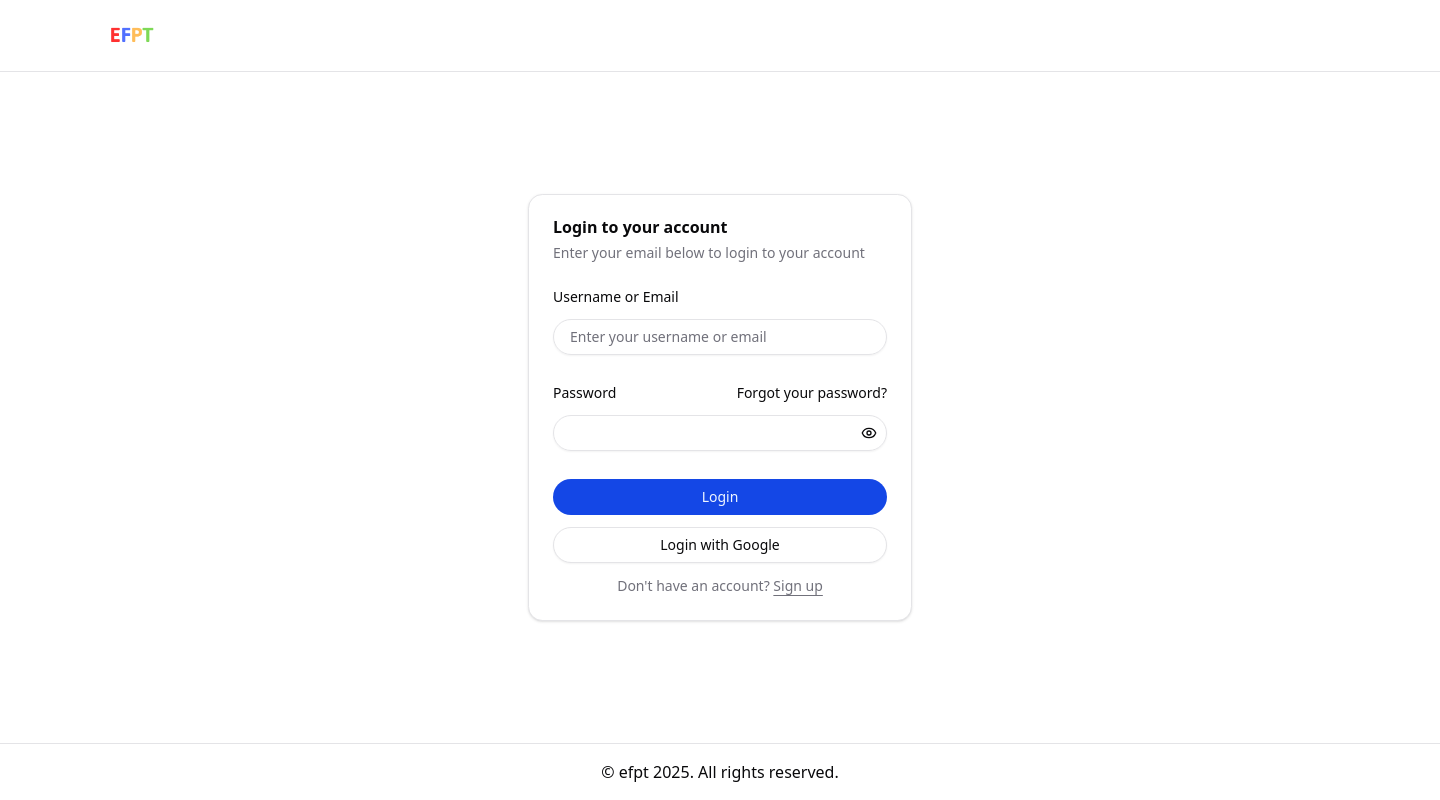
Test: Login failure flow › shows an error and does not store token when password is wrong
Step 1. Type "admin" into the field named "username" → (720, 337), box x1=553 y1=319 x2=887 y2=355
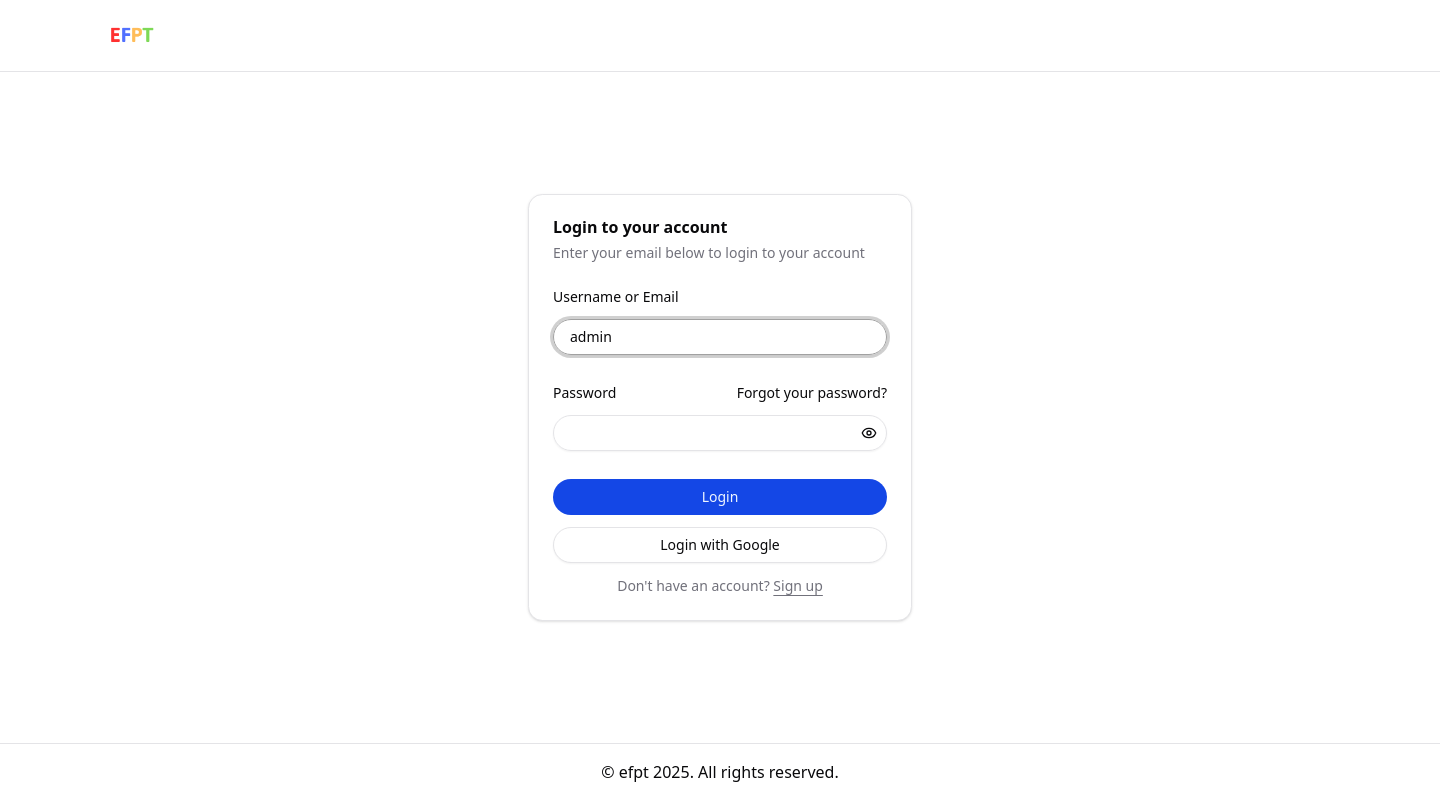
Step 2. Type "wrong-password" into the password field named "password" → (720, 433), box x1=553 y1=415 x2=887 y2=451
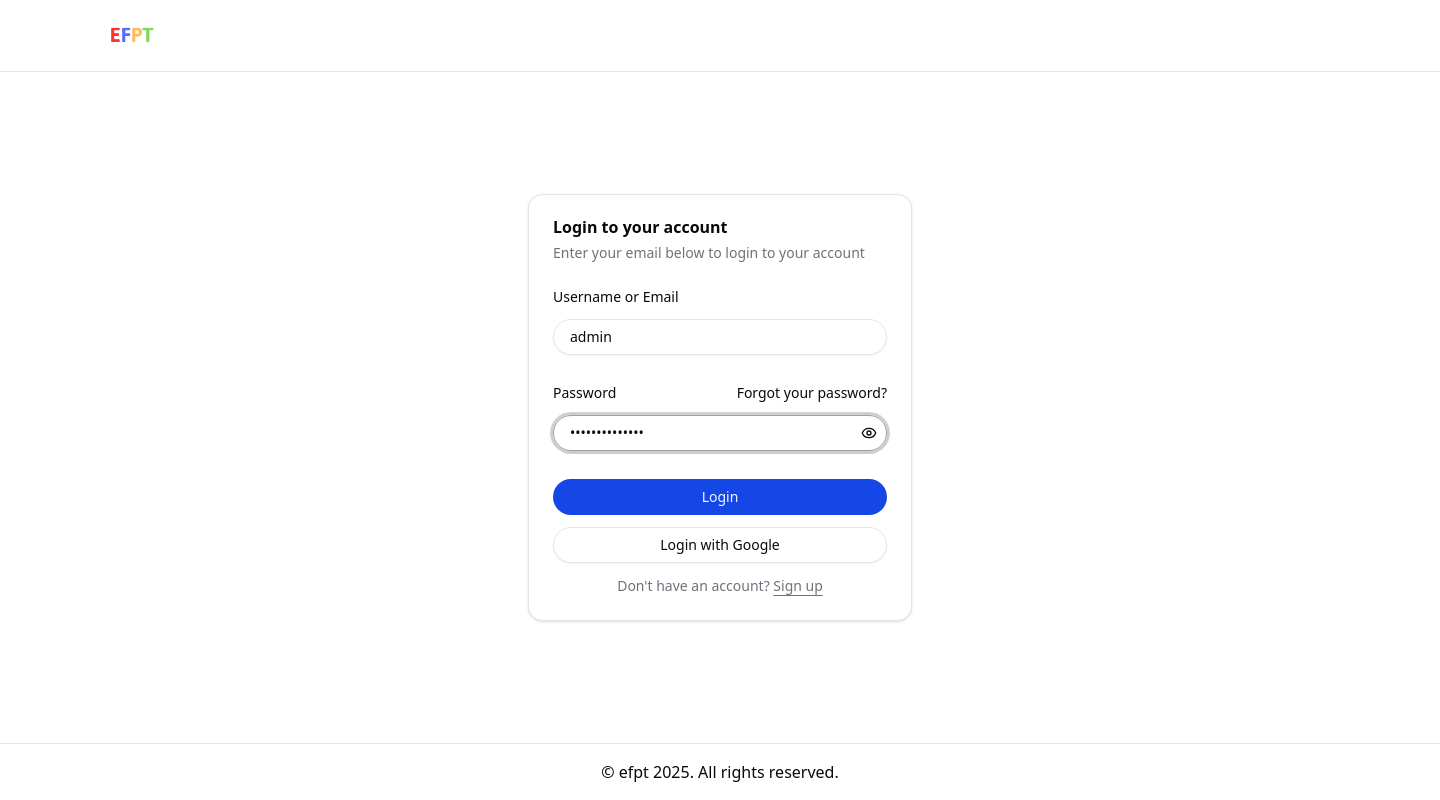
Step 3. Click the button "Login" → click(720, 497), box x1=553 y1=479 x2=887 y2=515
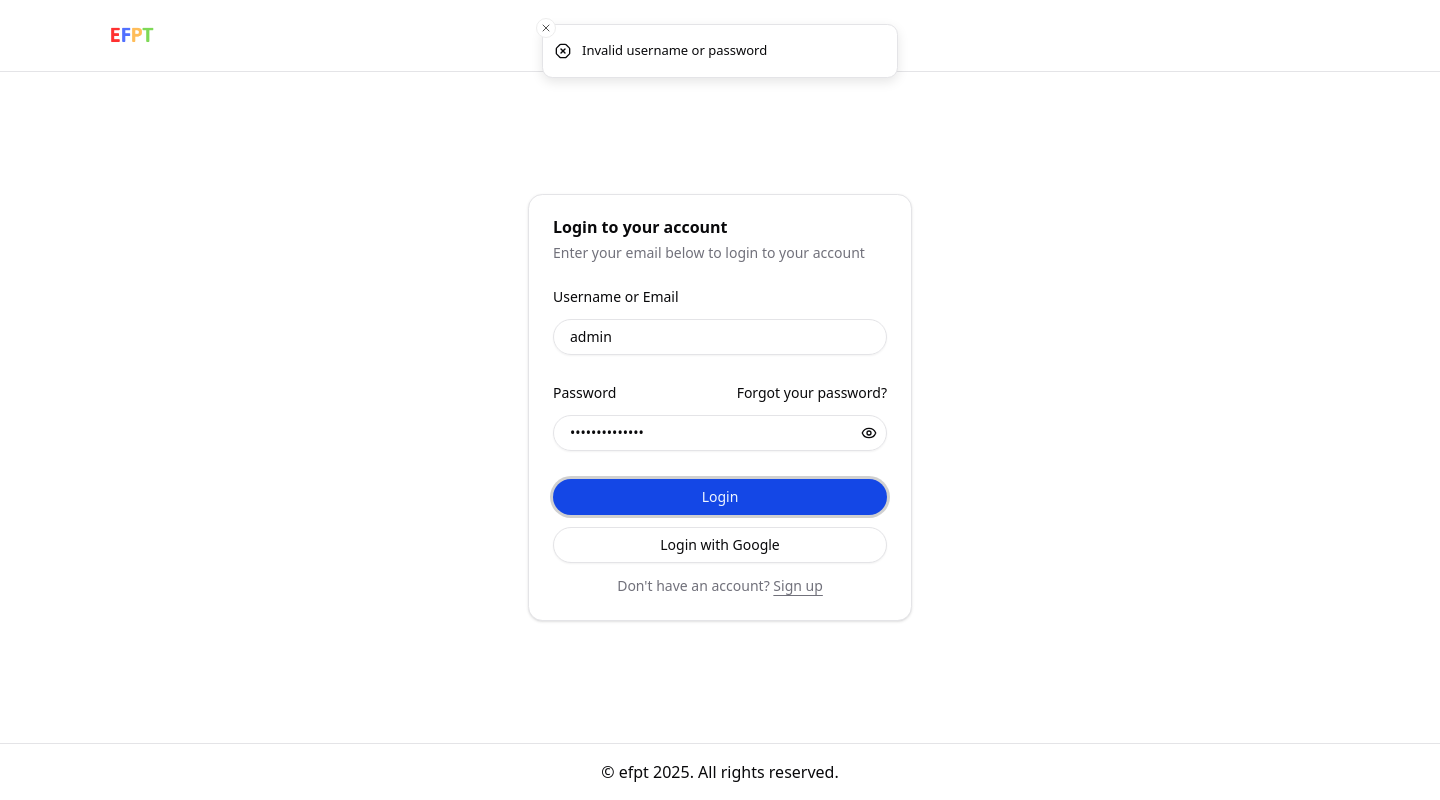
Check: the text "Invalid" is shown, box x1=582 y1=41 x2=767 y2=59
